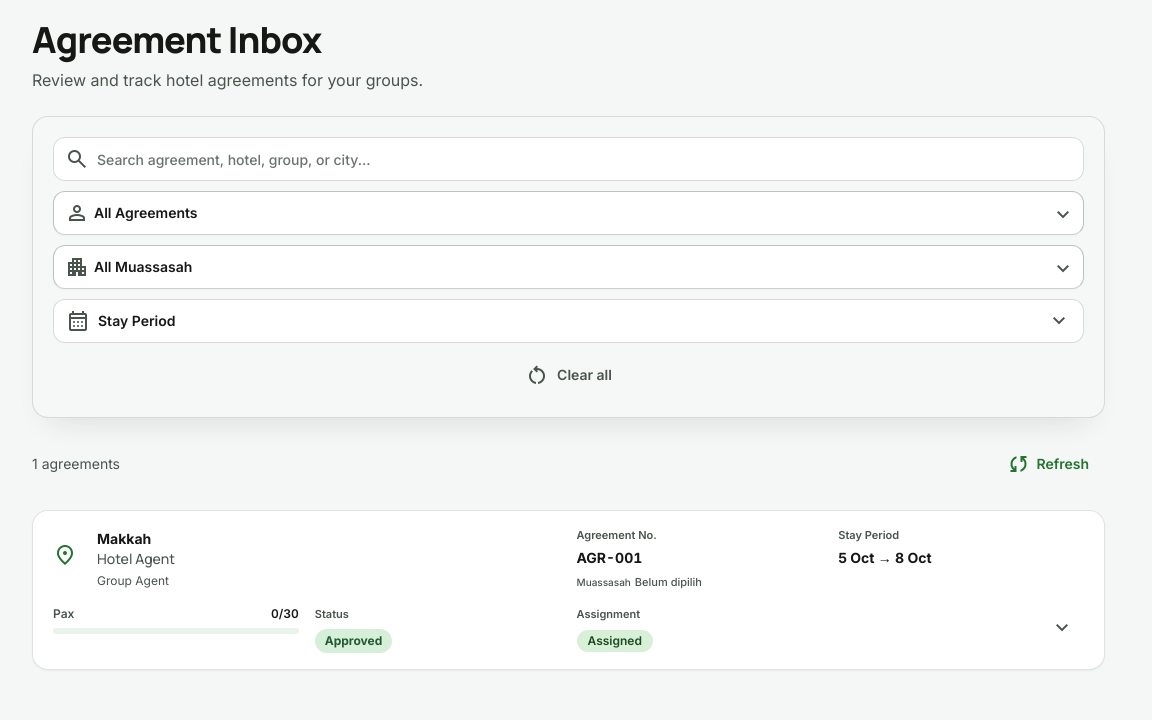
Agent Agreement Inbox › shows allocated drafts without an edit control, with distinct empty search feedback
Expected: the heading "Hotel Agent" is shown, [97,548,175,568]
Click the button named "Buka detail AGR-001": [1062, 628] box [1040,606,1084,650]
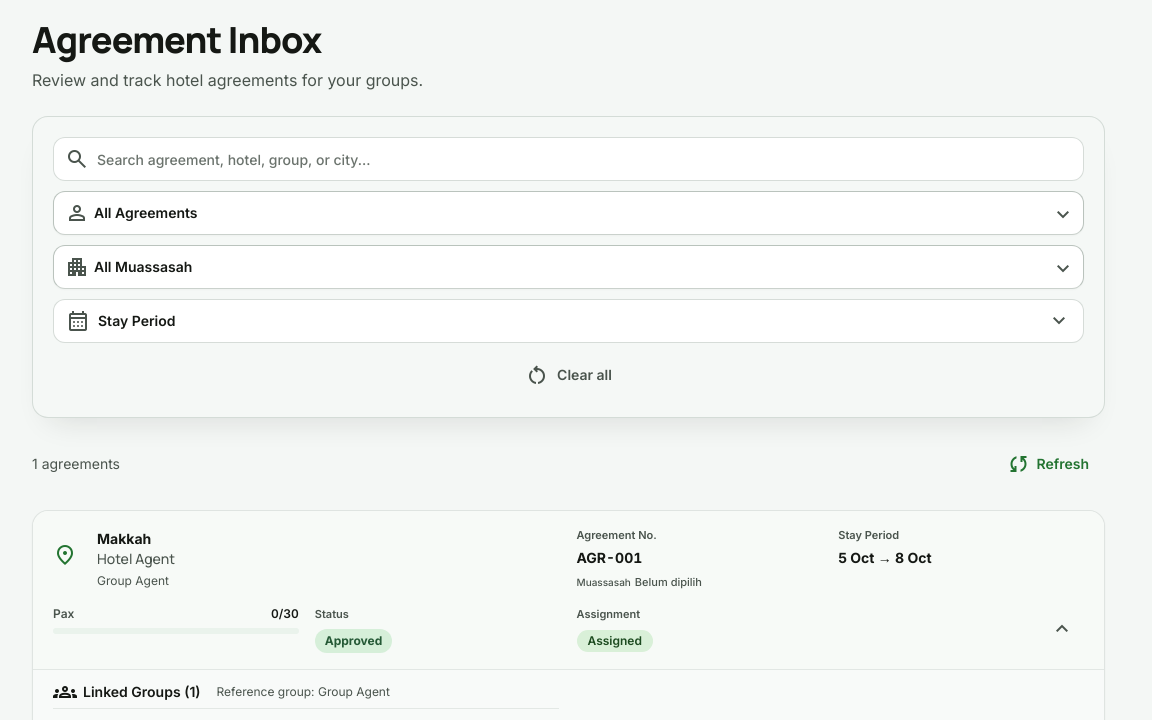
In the search field named "Search agreement drafts": [588, 159] box [97,137,1080,181], type "tidak ada"
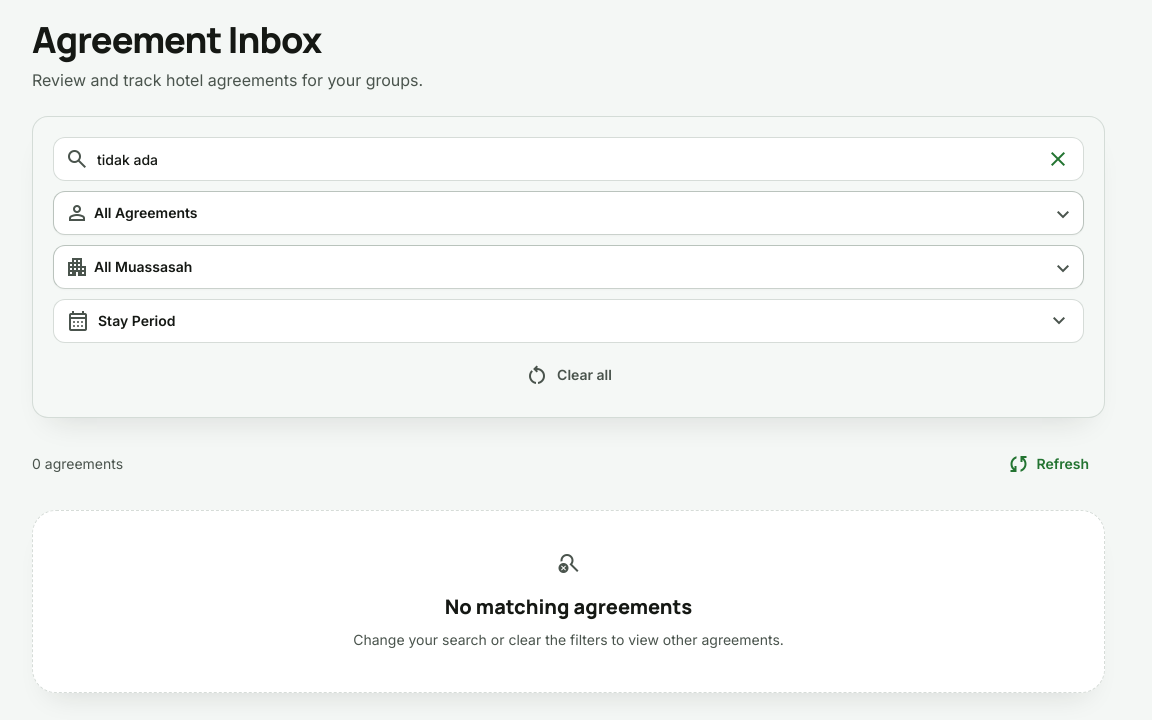
Expected: the heading "No matching agreements" is shown, [445,593,692,620]
